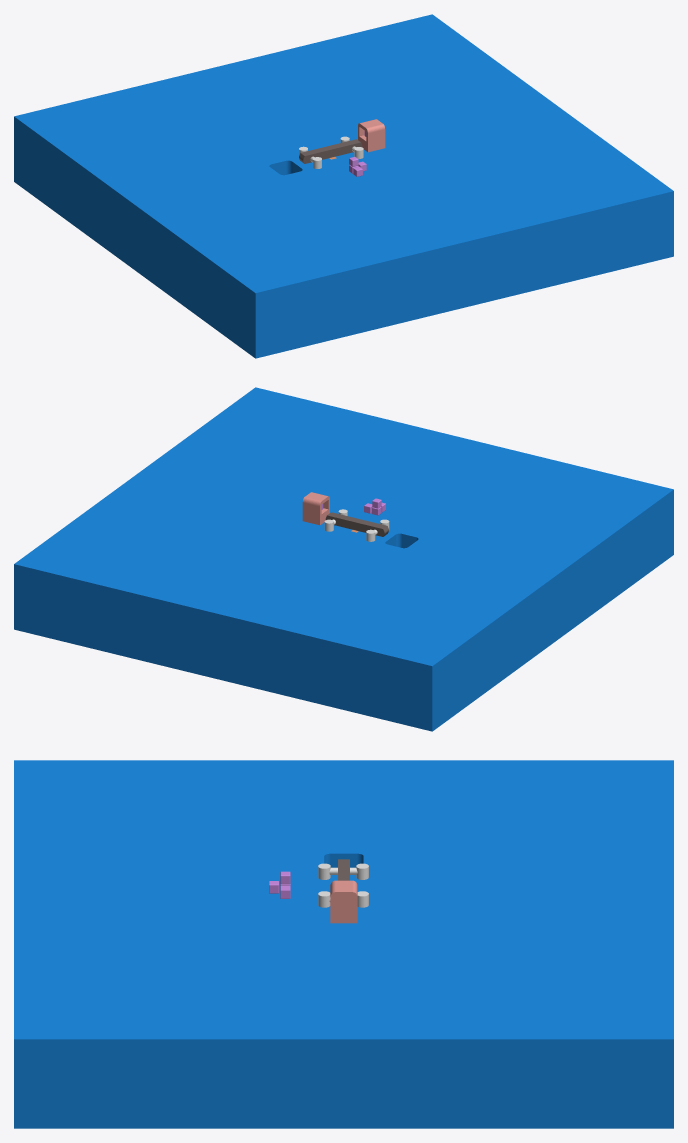
The model's file is conveyer belt .glb.
3 renders of one model, top to bottom at view 1: azimuth 30°, elevation 25°; view 2: azimuth 150°, elevation 25°; view 3: azimuth 270°, elevation 25°, orthographic. The views are drawn at different scales.
Visible parts, largest first — view 1: Plane.002, Cube.001, Cube; view 2: Plane.002, Cube.001, Cube; view 3: Plane.002, Cube.001.
Boxes of the visible parts, x1=… form: Plane.002: x1=14, y1=14, x2=673, y2=358; Cube.001: x1=358, y1=119, x2=385, y2=152; Cube: x1=299, y1=139, x2=362, y2=163; Plane.002: x1=14, y1=387, x2=673, y2=731; Cube.001: x1=302, y1=492, x2=329, y2=525; Cube: x1=325, y1=512, x2=388, y2=536; Plane.002: x1=14, y1=760, x2=673, y2=1128; Cube.001: x1=330, y1=880, x2=357, y2=923.
Size of the model in its own units: 48.51 by 9.83 by 48.51.
